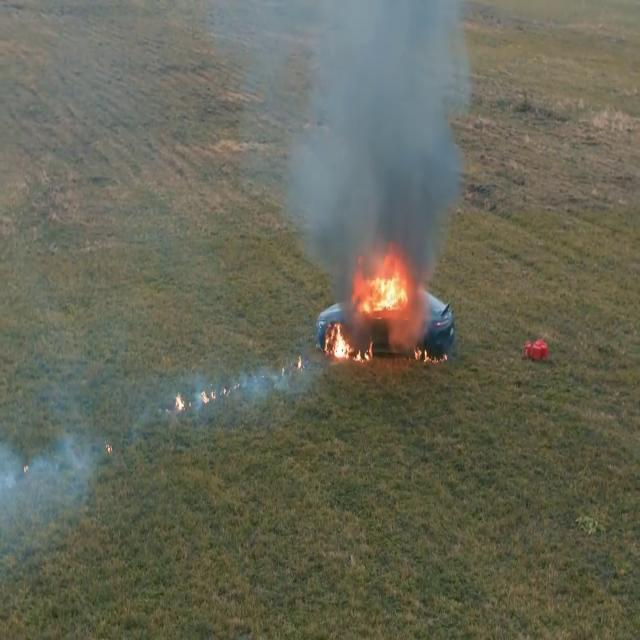Fire: (353, 251, 411, 326), (324, 324, 374, 368), (171, 382, 221, 418), (407, 347, 447, 367)
Smoke: (212, 0, 486, 263), (0, 376, 106, 586)
